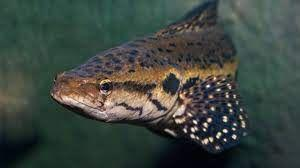Snakehead: (47, 0, 250, 152)
